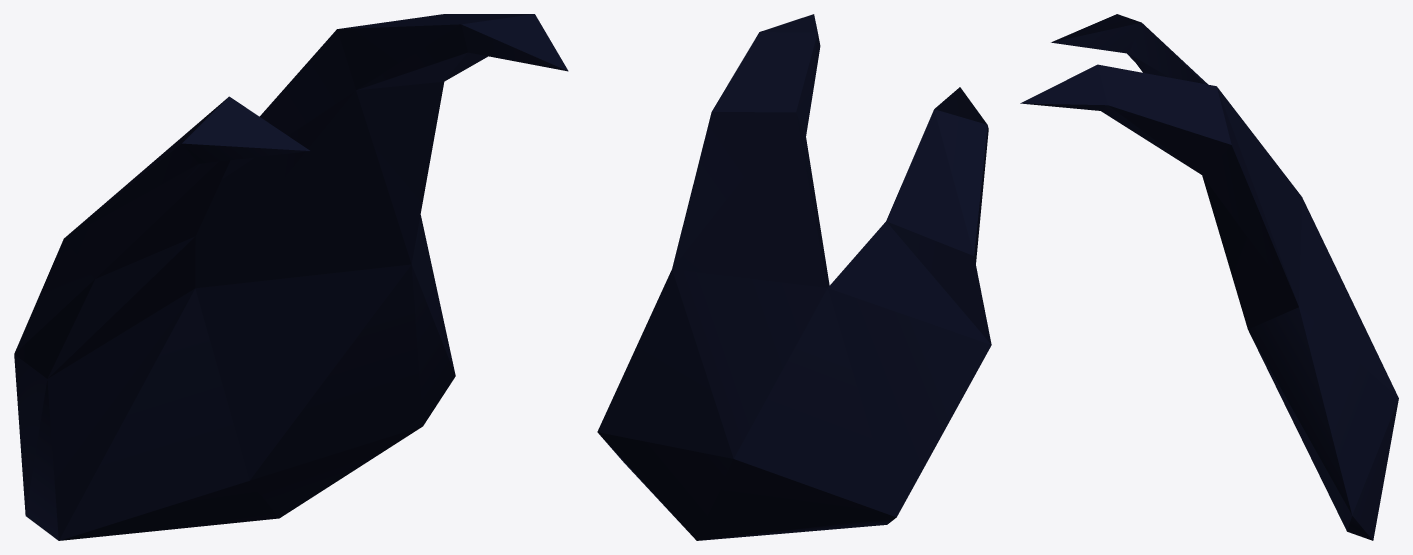
Rendered from shadowHand.obj.
3 renders of one model, left to right at view 1: azimuth 30°, elevation 25°; view 2: azimuth 150°, elevation 25°; view 3: azimuth 270°, elevation 25°, orthographic. The views are drawn at different scales.
Parts seen in each view (by area): view 1: shadow; view 2: shadow; view 3: shadow.
Part boxes in pixels (left/top/right/bottom): shadow: left=14, top=14, right=568, bottom=540; shadow: left=597, top=14, right=991, bottom=540; shadow: left=1020, top=14, right=1398, bottom=540.
Size of the model in its own units: 0.8335 by 0.9686 by 0.6979.
